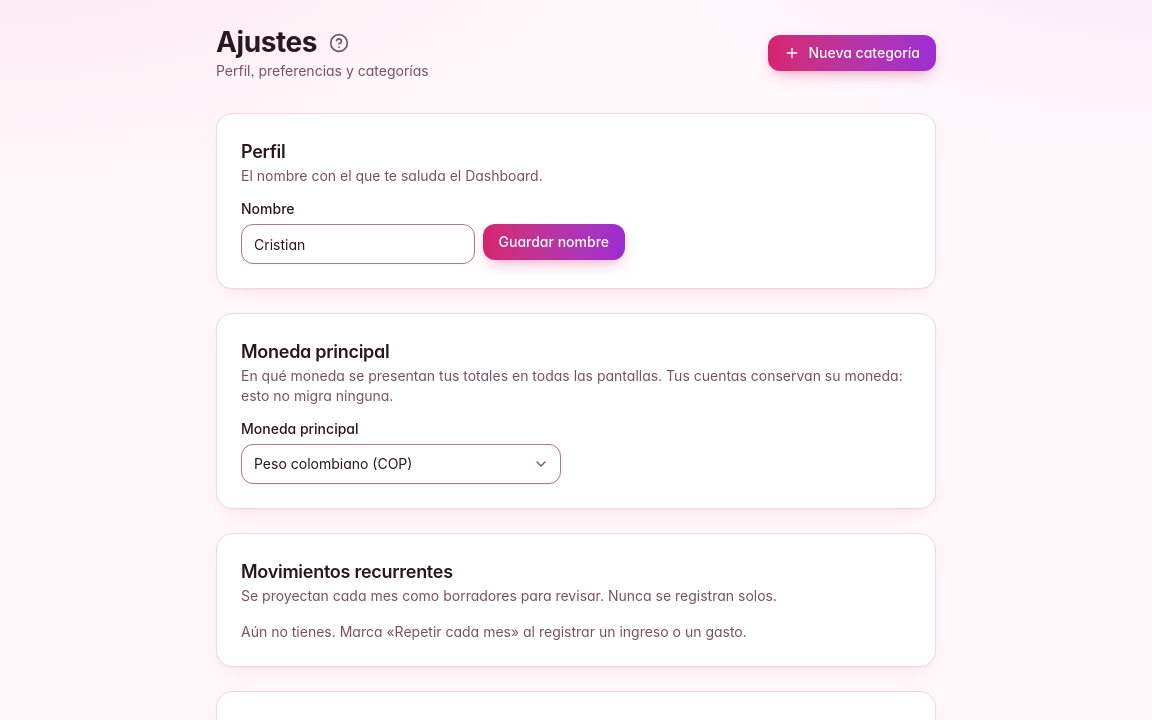
Test case: Settings — moneda principal (M12) › confirmar aplica el cambio y avisa
Select "Dólar estadounidense (USD)" in the dropdown labelled "Moneda principal" at {"x": 401, "y": 464}, box left=241, top=444, right=561, bottom=484
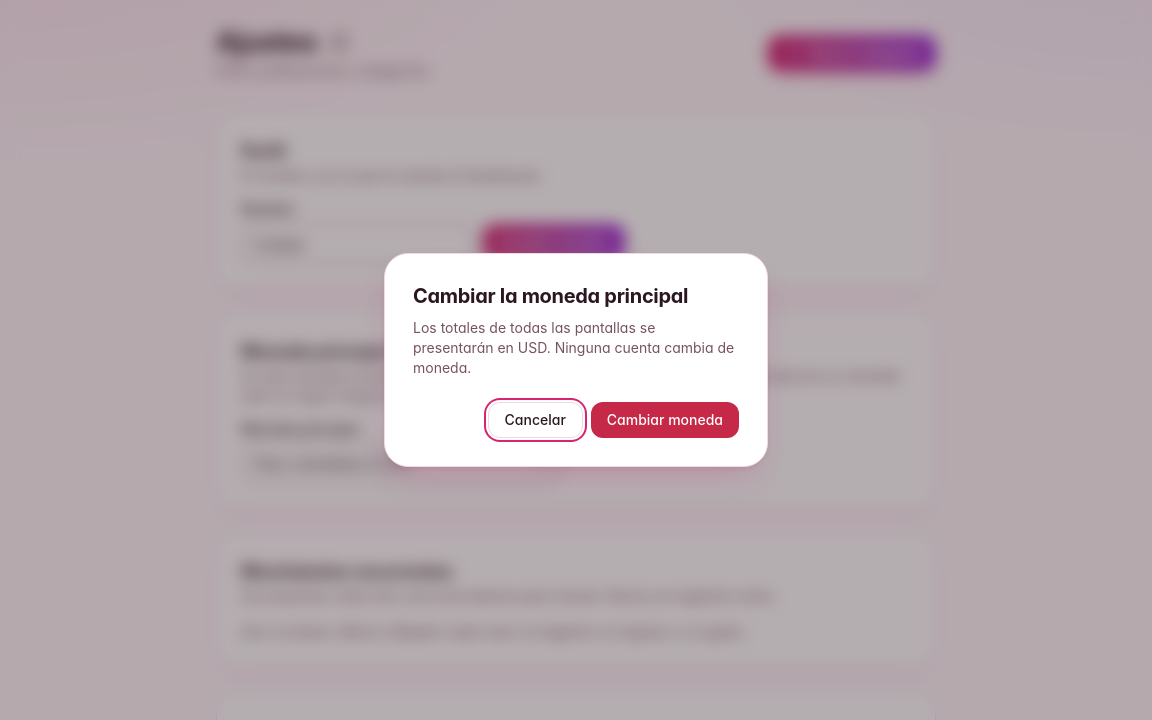
Click the button "Cambiar moneda".
click(665, 420)  # box left=591, top=402, right=739, bottom=438
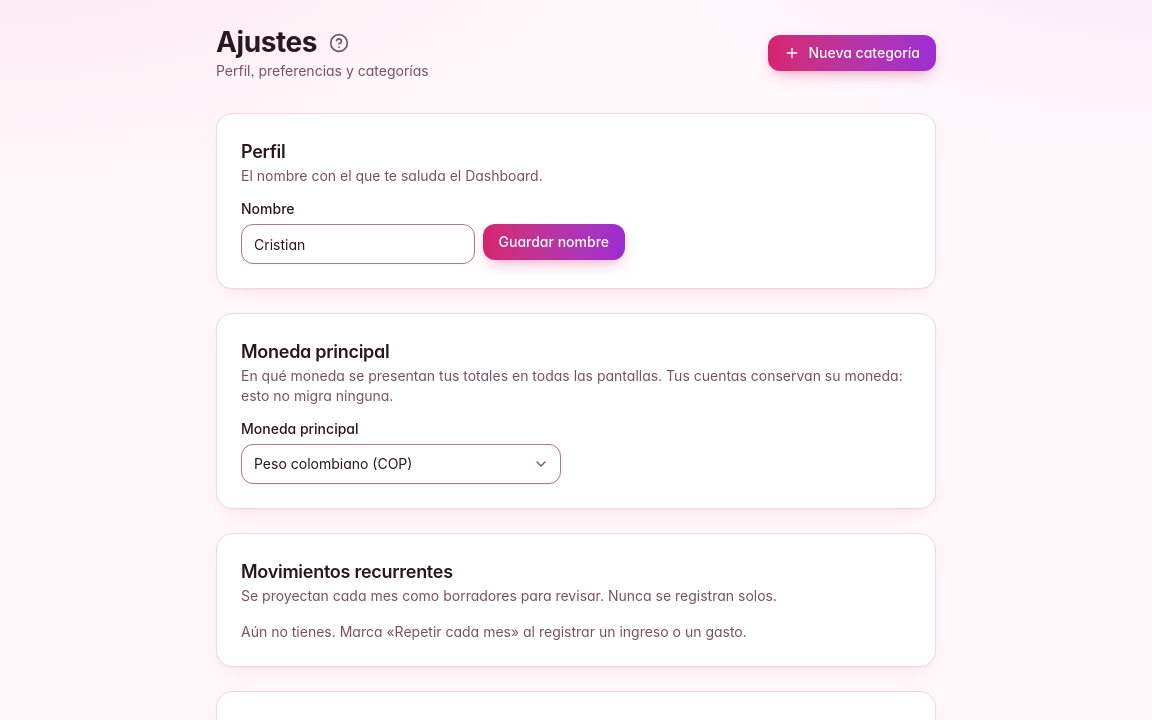
Result: the dialog is gone
